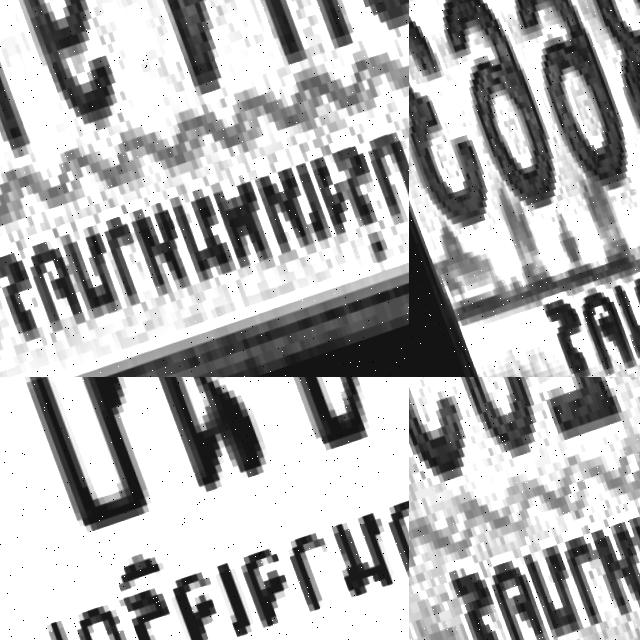license-plate: (0, 0, 409, 377), (0, 377, 409, 640), (409, 0, 640, 377), (409, 377, 640, 640)
